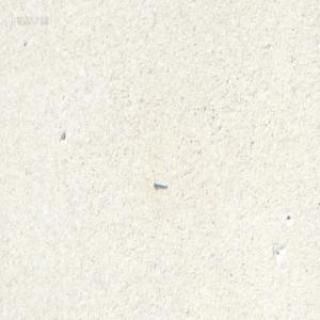Nailtrack_idkeyframe: (152, 178, 166, 187)
